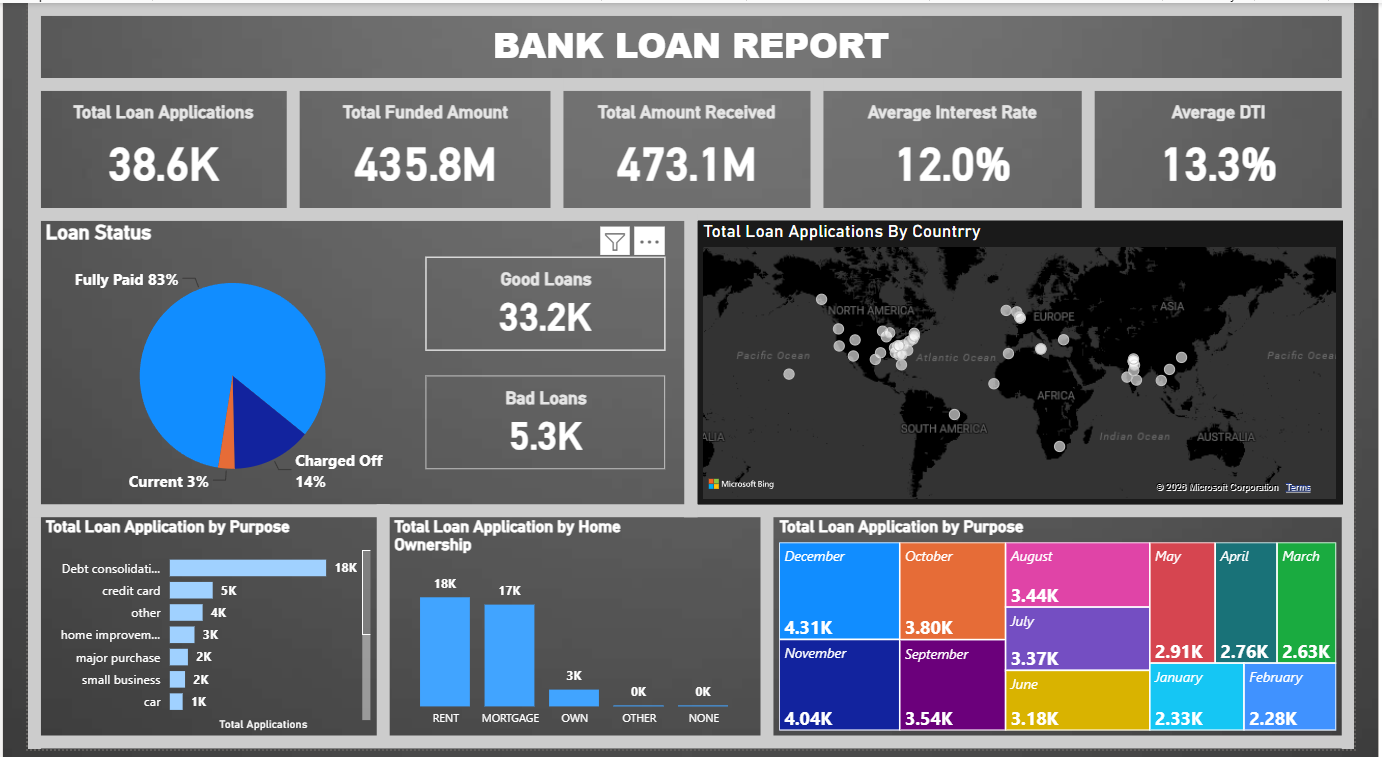

The page's visual inventory and layout, read from the dashboard file:
{"tool":"powerbi","page":{"name":"Page 1","canvas":[1280,720],"ordinal":0},"visuals":[{"type":"shape","box":[0,0,1280,12.5],"z":0},{"type":"shape","box":[0,707.5,1280,12.5],"z":1000},{"type":"shape","box":[0,0,12.5,720],"z":2000},{"type":"shape","box":[1267.5,0,12.5,720],"z":3000},{"type":"shape","box":[0,72.5,1280,12.5],"z":4000},{"type":"shape","box":[0,197.5,1280,12.5],"z":5000},{"type":"shape","box":[0,483.8,1280,12.5],"z":6000},{"type":"shape","box":[633.8,203.8,12.5,292.5],"z":7000},{"type":"shape","box":[250,72.5,12.5,137.5],"z":8000},{"type":"shape","box":[503.8,72.5,12.5,137.5],"z":9000},{"type":"shape","box":[755,72.5,12.5,137.5],"z":10000},{"type":"shape","box":[1017.5,72.5,12.5,137.5],"z":11000},{"type":"textbox","title":"BANK LOAN REPORT","box":[422.5,12.5,435,60],"z":12000},{"type":"card","title":"Total Loan Applications","fields":{"Values":["Count(financial_loan.id)"]},"box":[12.5,85,237.5,112.5],"z":13000},{"type":"card","title":"Total Funded Amount","fields":{"Values":["Sum(financial_loan.loan_amount)"]},"box":[262.5,85,241.2,112.5],"z":14000},{"type":"card","title":"Total Amount Received","fields":{"Values":["Sum(financial_loan.total_payment)"]},"box":[516.2,85,238.8,112.5],"z":15000},{"type":"card","title":"Average Interest Rate","fields":{"Values":["Avg(financial_loan.int_rate)"]},"box":[767.5,85,250,112.5],"z":16000},{"type":"card","title":"Average DTI","fields":{"Values":["Avg(financial_loan.dti)"]},"box":[1030,85,237.5,112.5],"z":17000},{"type":"pieChart","title":"Loan Status","fields":{"Y":["Count(financial_loan.id)"],"Category":["financial_loan.loan_status"]},"box":[12.5,210,371.2,276.2],"z":18000},{"type":"map","title":"Total Loan Applications By Countrry","fields":{"Y":["financial_loan.id"],"Category":["financial_loan.address_state"]},"box":[646.2,210,621.2,273.8],"z":19000},{"type":"barChart","title":"Total Loan Application by Purpose","fields":{"Y":["Count(financial_loan.id)"],"Category":["financial_loan.purpose"]},"box":[12.5,496.2,323.8,211.2],"z":20000},{"type":"columnChart","title":"Total Loan Application by Home Ownership","fields":{"Y":["CountNonNull(financial_loan.id)"],"Category":["financial_loan.home_ownership"]},"box":[348.8,496.2,358.8,211.2],"z":21000},{"type":"shape","box":[336.2,483.8,12.5,230],"z":22000},{"type":"shape","box":[707.5,487.5,12.5,230],"z":23000},{"type":"treemap","title":"Total Loan Application by Purpose","fields":{"Group":["financial_loan.issue_date.Variation.Date Hierarchy.Month"],"Values":["CountNonNull(financial_loan.id)"]},"box":[720,496.2,547.5,211.2],"z":24000},{"type":"card","title":"Good Loans","fields":{"Values":["financial_loan.TotalGoodLoans"]},"box":[383.8,245,231.2,90],"z":24001},{"type":"card","title":"Bad Loans","fields":{"Values":["financial_loan.BadLoans"]},"box":[383.8,360,231.2,90],"z":24002}]}

Visuals, with their boxes in screenshot pixels (x1, y1, x2, y2), scaled from the page's 1280x720 canvas onto the 1382x757 screenshot:
shape: 0/0/1381/13
shape: 0/744/1381/756
shape: 0/0/13/756
shape: 1369/0/1381/756
shape: 0/76/1381/89
shape: 0/208/1381/221
shape: 0/509/1381/522
shape: 684/214/698/522
shape: 270/76/283/221
shape: 544/76/557/221
shape: 815/76/829/221
shape: 1099/76/1112/221
"BANK LOAN REPORT" textbox: 456/13/926/76
"Total Loan Applications" card: 13/89/270/208
"Total Funded Amount" card: 283/89/544/208
"Total Amount Received" card: 557/89/815/208
"Average Interest Rate" card: 829/89/1099/208
"Average DTI" card: 1112/89/1369/208
"Loan Status" pieChart: 13/221/414/511
"Total Loan Applications By Countrry" map: 698/221/1368/509
"Total Loan Application by Purpose" barChart: 13/522/363/744
"Total Loan Application by Home Ownership" columnChart: 377/522/764/744
shape: 363/509/376/750
shape: 764/513/777/754
"Total Loan Application by Purpose" treemap: 777/522/1369/744
"Good Loans" card: 414/258/664/352
"Bad Loans" card: 414/378/664/473
